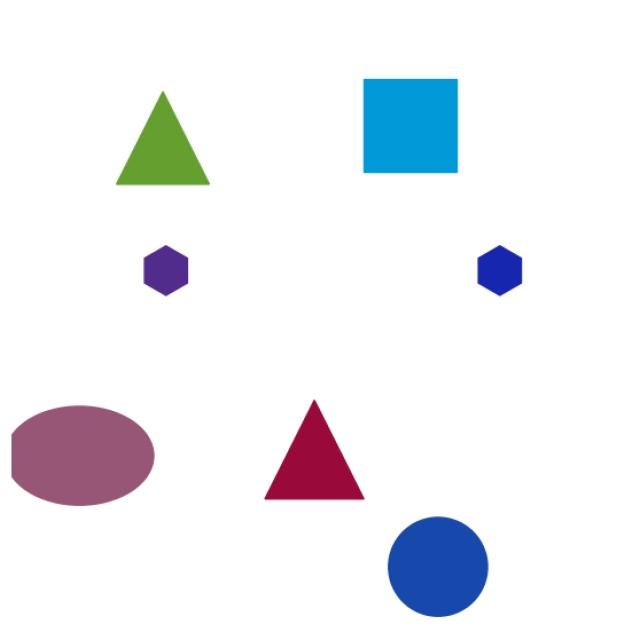Circle: (374, 498, 500, 624)
Hexagon: (462, 230, 536, 312), (132, 229, 193, 303)
Oval: (3, 379, 170, 518)
Triangle: (251, 370, 377, 536), (106, 66, 219, 213)
square: (348, 61, 472, 190)
